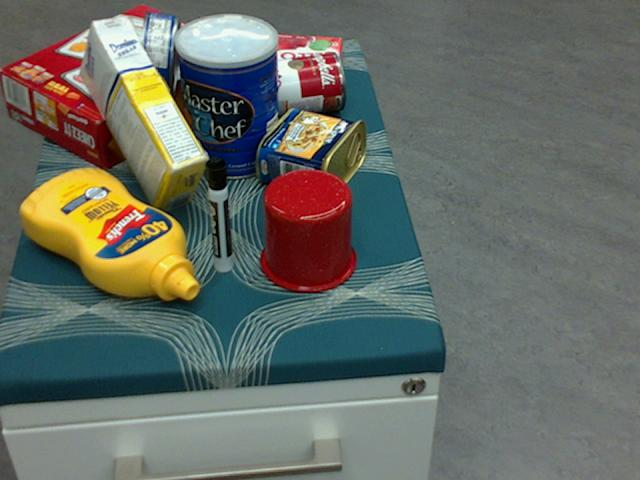cracker_box: (0, 6, 239, 170)
gelatin_box: (266, 36, 342, 82)
large_marker: (205, 156, 232, 270)
master_chef_can: (175, 13, 280, 179)
mug: (257, 167, 355, 291)
mustard_bottle: (20, 168, 199, 299)
potted_meat_can: (256, 105, 366, 202)
sugar_box: (80, 16, 210, 212)
tomato_soup_can: (247, 50, 346, 119)
tuna_fish_can: (138, 10, 179, 95)
